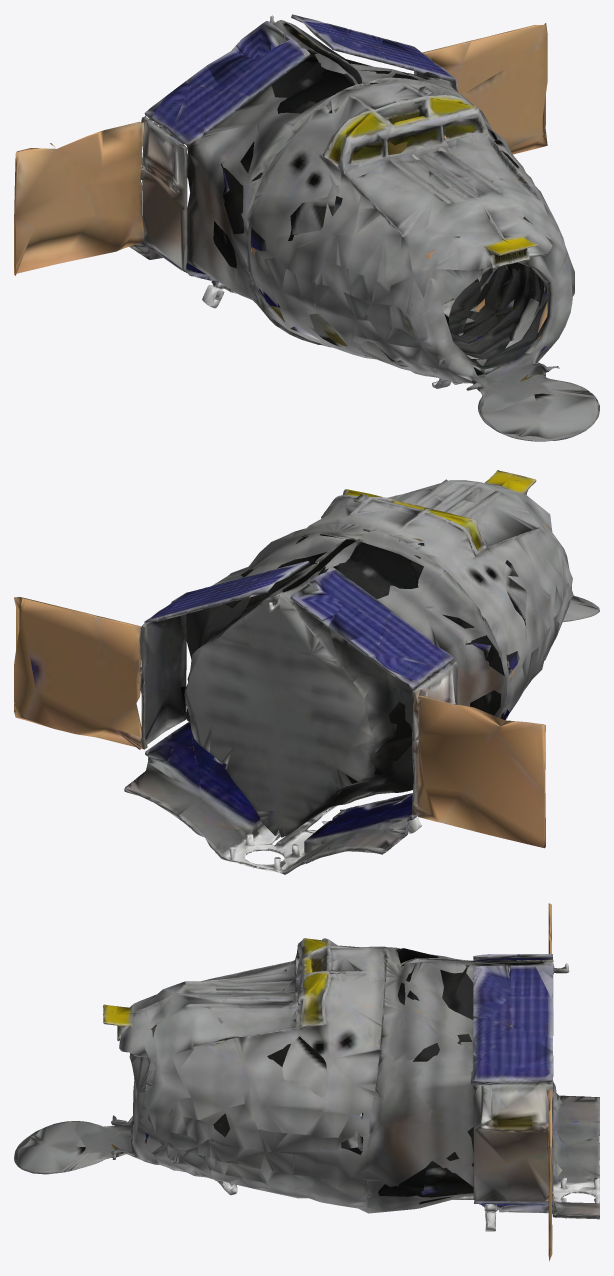
File: castor-low.glb
3 renders of one model, top to bottom at view 1: azimuth 30°, elevation 25°; view 2: azimuth 150°, elevation 25°; view 3: azimuth 270°, elevation 25°, orthographic. The views are drawn at different scales.
Bounding box in the file's own units: 1.87 × 0.8783 × 1.9.
1 material, 1 textured.
